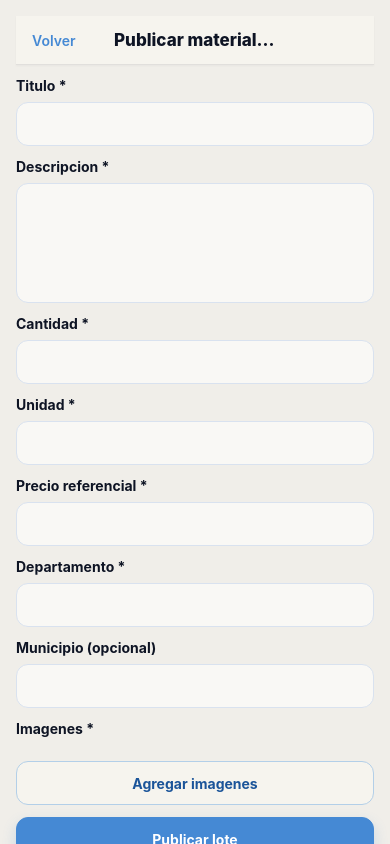
rechaza imagen invalida {"mimeType":"image/gif","fileName":"foto.gif"}
Expected: the text "Publicar lote" is shown, [152,830,238,843]
Click the text "Agregar imagenes".
click(195, 783)  # box [132,774,258,792]
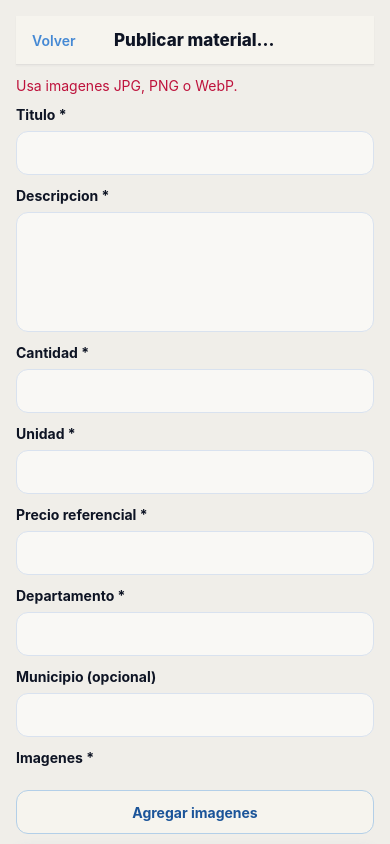
Now the text "Usa imagenes JPG, PNG o WebP." is shown, box [16,77,238,94]
